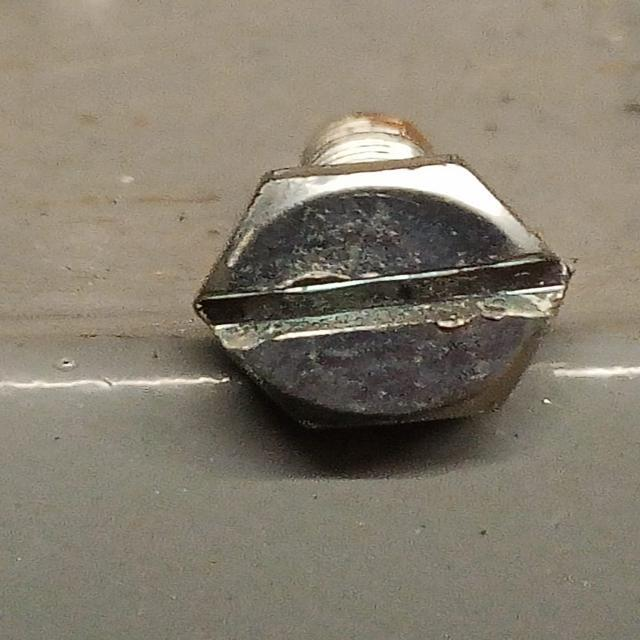duz: (193, 154, 574, 437)
